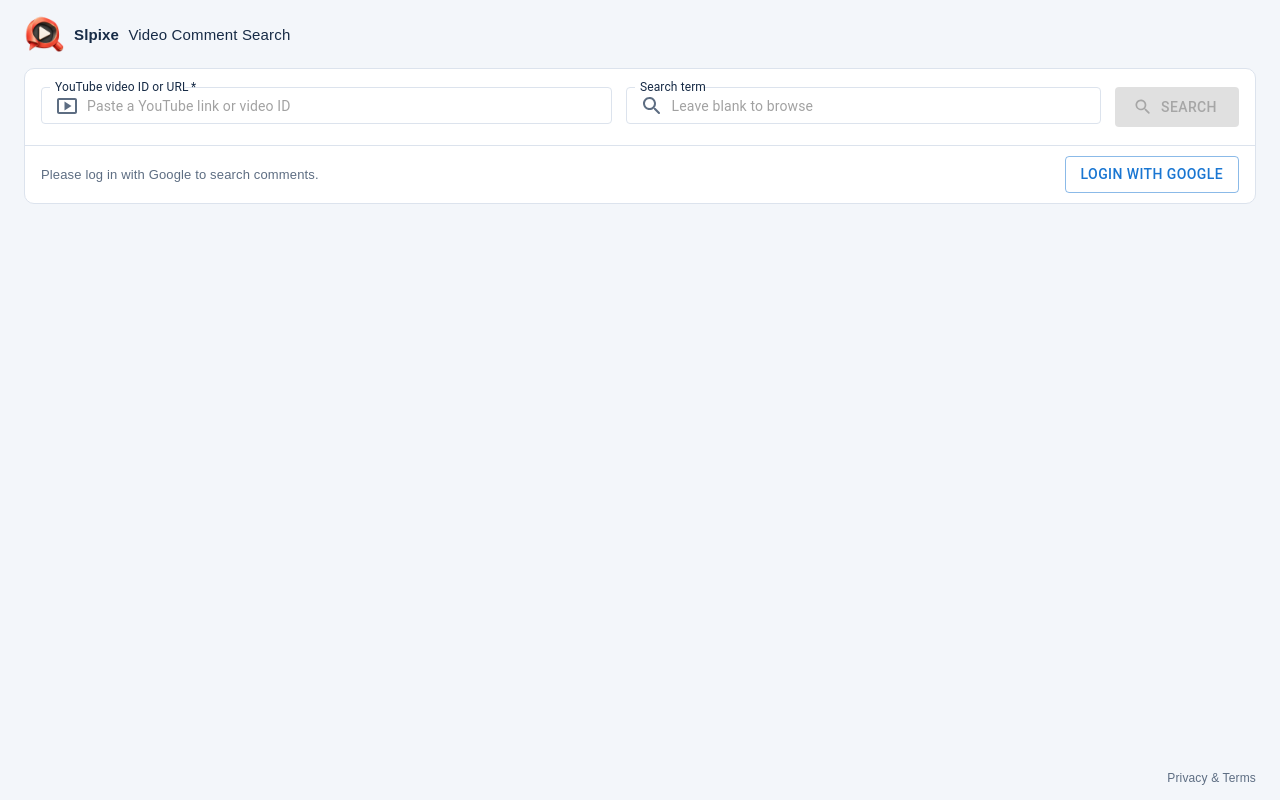
Scenario: VideoCommentsSearch › requires login, then allows search and clears results on logout
Expected: the button "Search" is disabled, [1115, 87, 1239, 127]
Click the button "Login with Google".
click(1152, 174)  # box [1064, 156, 1239, 192]
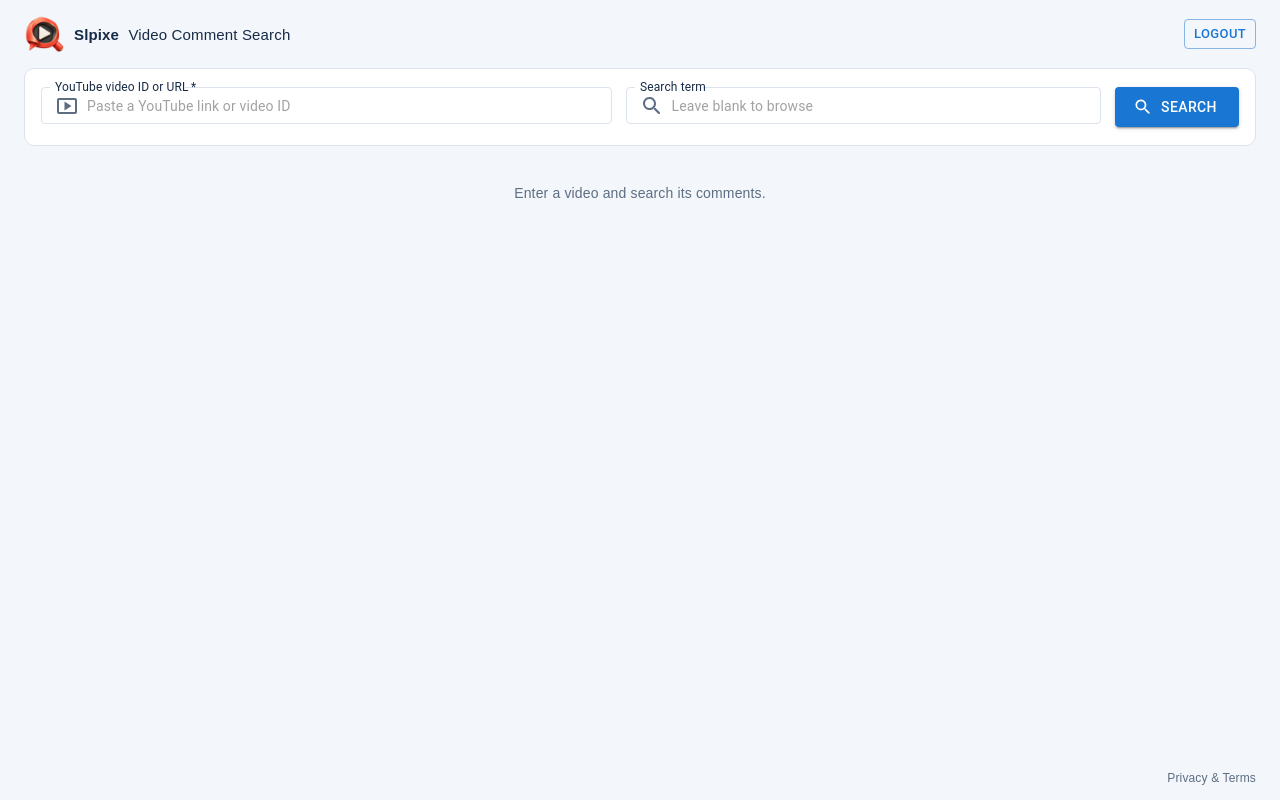
Type "kJQP7kiw5Fk" into the field labelled "YouTube video ID or URL *".
click(349, 106); type("kJQP7kiw5Fk")  # box [87, 87, 612, 124]
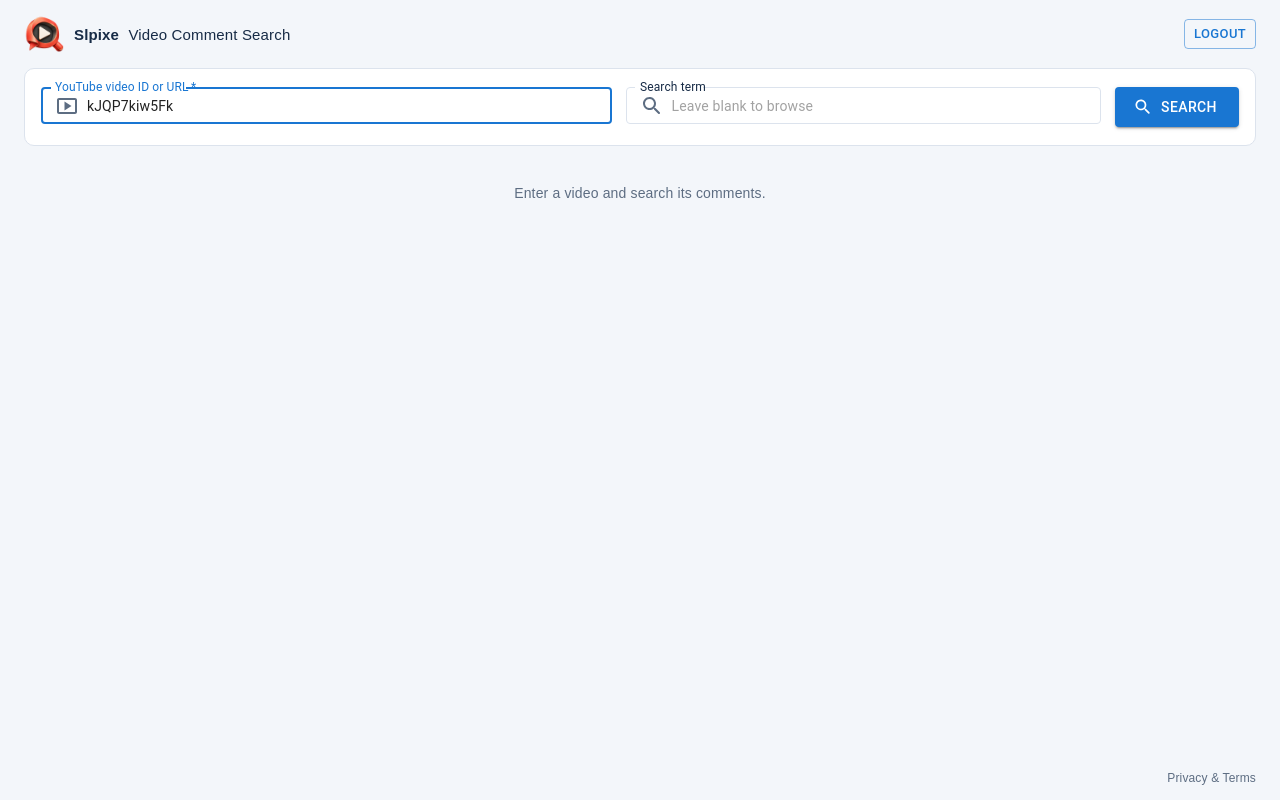
Click the button "Search".
click(1177, 107)  # box [1115, 87, 1239, 127]
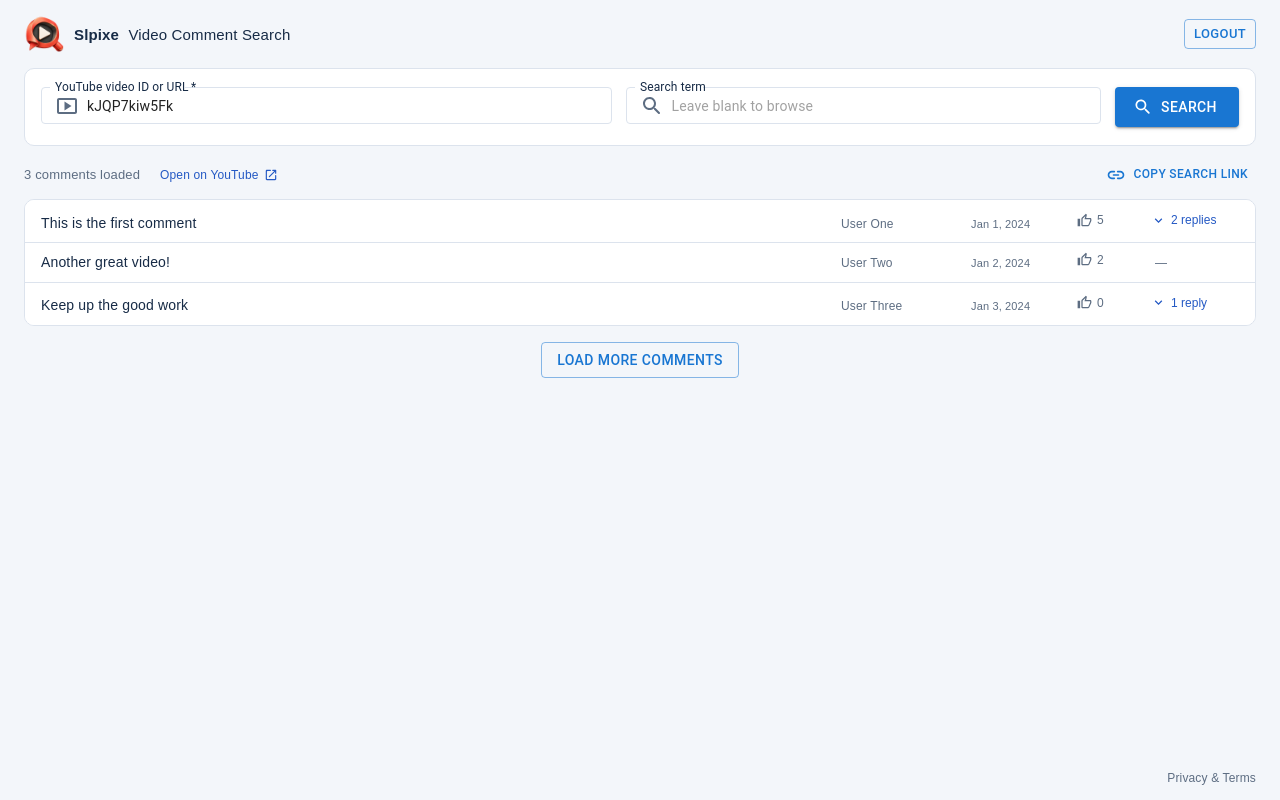
Expected: the text "This is the first comment" is shown, [41, 214, 196, 230]
Click the button "Logout".
click(1220, 34)  # box [1184, 19, 1256, 49]
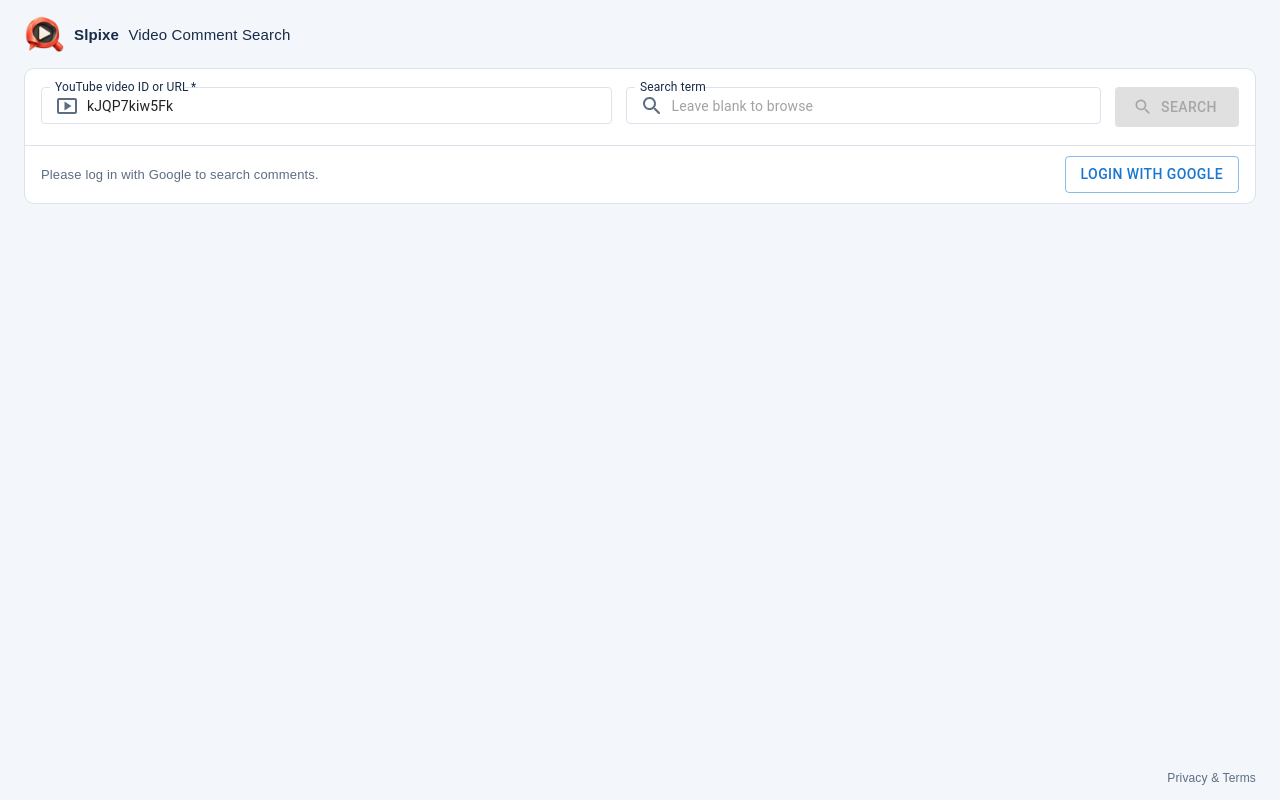
Expected: the text "This is the first comment" is gone
Expected: the button "Search" is disabled, [1115, 87, 1239, 127]
